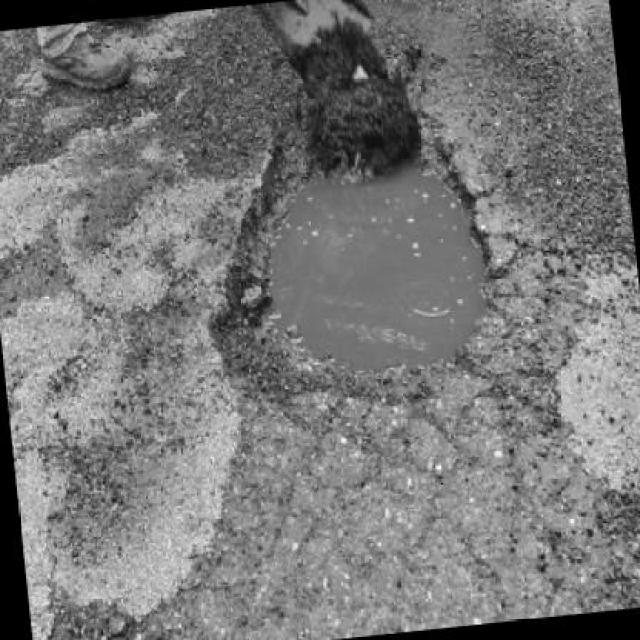pothole: (186, 90, 514, 438)
